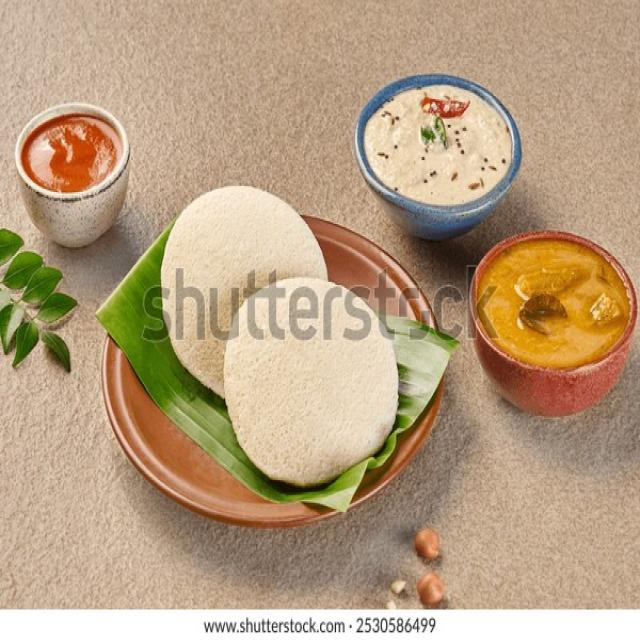IDLI: (163, 186, 329, 403), (223, 279, 394, 477)
